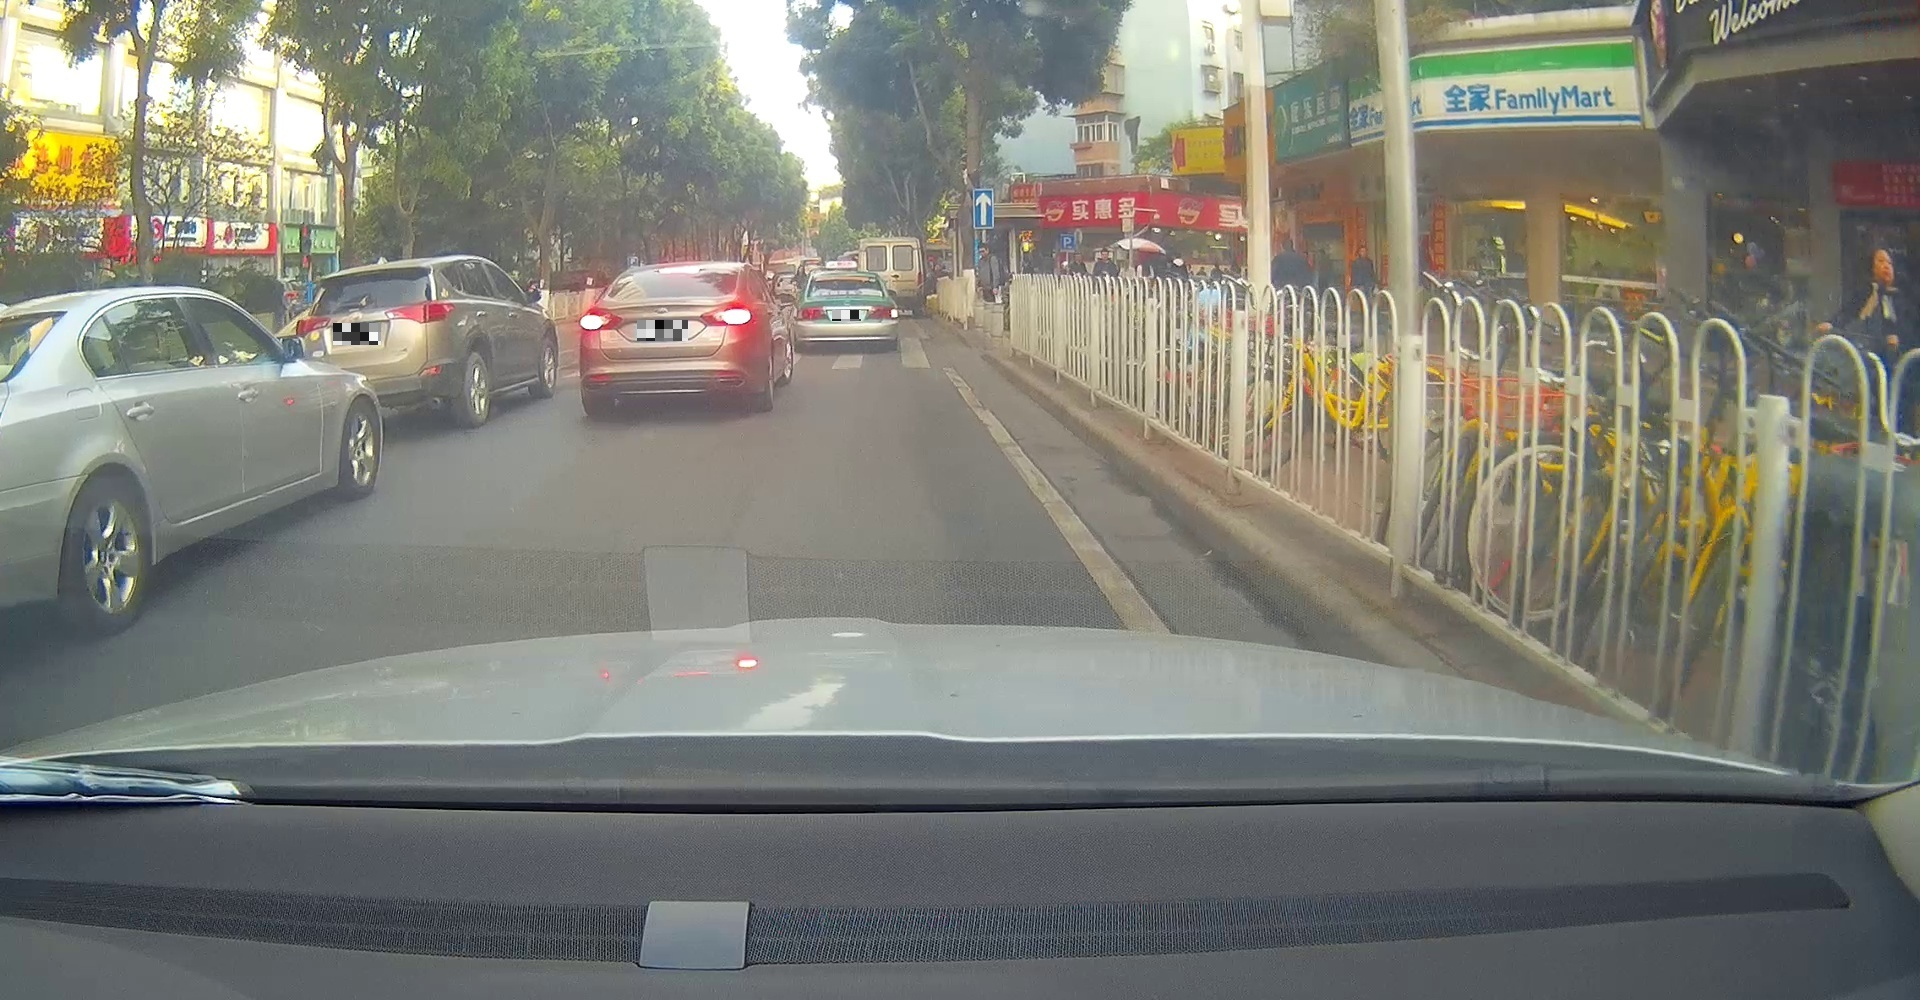L_light: (579, 308, 623, 332), (295, 315, 331, 339), (792, 306, 828, 324)
R_light: (383, 299, 455, 324), (698, 302, 759, 327), (865, 305, 898, 321)
T_light: (345, 307, 367, 313), (649, 272, 674, 277), (839, 275, 857, 280)
day-brake: (579, 261, 761, 420)
day-no: (295, 261, 455, 437)
day-right: (790, 265, 899, 354)
plate_1: (333, 324, 381, 345)
plate_2: (637, 320, 688, 341)
plate_3: (832, 310, 861, 321)
